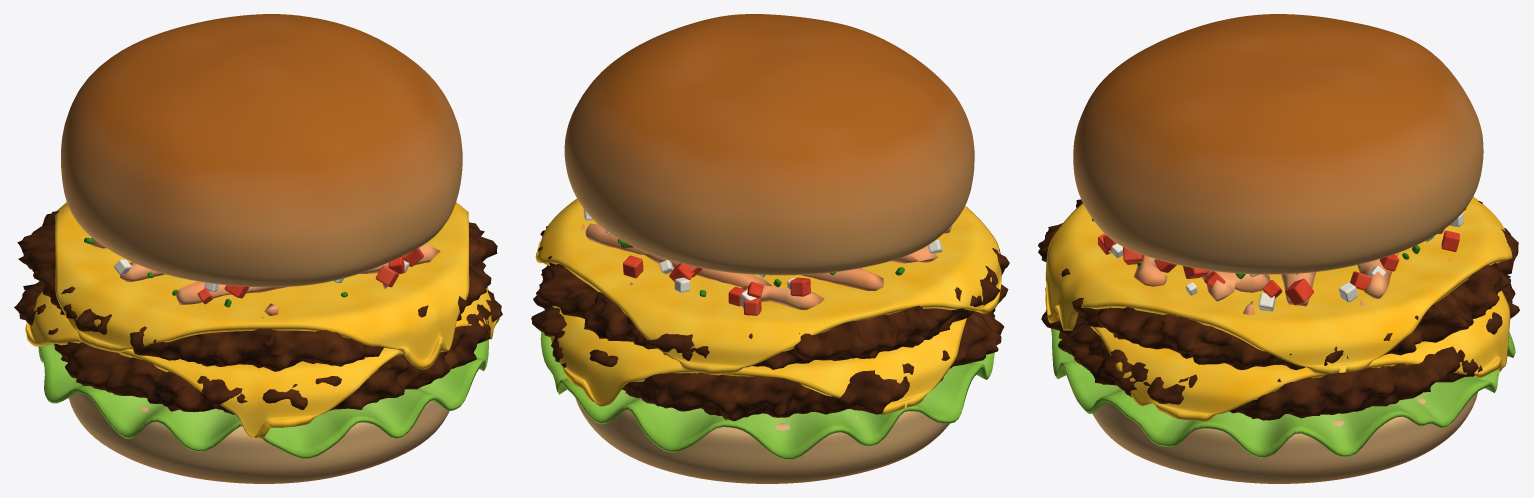
Rendered from hamburguesa.glb.
3 renders of one model, left to right at view 1: azimuth 30°, elevation 25°; view 2: azimuth 150°, elevation 25°; view 3: azimuth 270°, elevation 25°, orthographic.
Parts seen in each view (by area): view 1: Pan_Superior, Queso_2, Lechuga, Pan_Inferior, Carne_1, Carne_2, Queso_1, Salsa, Picadito; view 2: Pan_Superior, Queso_2, Carne_1, Pan_Inferior, Lechuga, Queso_1, Carne_2, Salsa, Picadito; view 3: Pan_Superior, Queso_2, Lechuga, Pan_Inferior, Carne_1, Queso_1, Carne_2, Picadito, Salsa.
Boxes of the visible parts, box(x1,y1,x2,y2) form: Pan_Superior: box(61, 14, 462, 287); Queso_2: box(55, 202, 469, 369); Lechuga: box(38, 339, 488, 458); Pan_Inferior: box(68, 392, 449, 483); Carne_1: box(14, 281, 502, 414); Carne_2: box(17, 211, 497, 371); Queso_1: box(25, 281, 499, 439); Salsa: box(90, 238, 440, 318); Picadito: box(84, 237, 423, 307); Pan_Superior: box(564, 14, 974, 275); Queso_2: box(535, 198, 1001, 373); Carne_1: box(531, 267, 1008, 421); Pan_Inferior: box(575, 398, 949, 483); Lechuga: box(540, 332, 994, 459); Queso_1: box(550, 305, 966, 414); Carne_2: box(537, 226, 1009, 369); Salsa: box(580, 223, 952, 309); Picadito: box(583, 208, 942, 315); Pan_Superior: box(1073, 14, 1483, 274); Queso_2: box(1045, 197, 1512, 373); Lechuga: box(1051, 328, 1515, 457); Pan_Inferior: box(1092, 392, 1477, 483); Carne_1: box(1041, 275, 1519, 420); Queso_1: box(1081, 290, 1510, 421); Carne_2: box(1038, 199, 1518, 370); Picadito: box(1091, 208, 1466, 311); Salsa: box(1108, 250, 1452, 315).
Bounding box in the file's own units: 0.1342 × 0.1129 × 0.1349.
